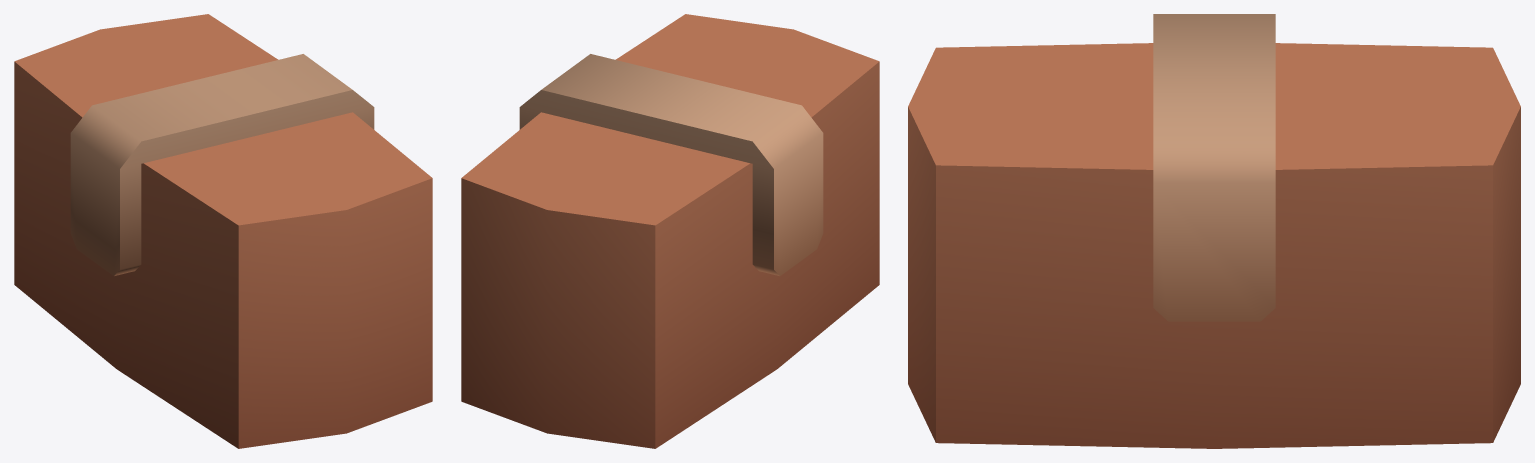
The model's file is box-wide.glb.
3 views of the same model, side by side, from view 1: azimuth 30°, elevation 25°; view 2: azimuth 150°, elevation 25°; view 3: azimuth 270°, elevation 25° (orthographic). The views are drawn at different scales.
Visible parts, largest first — view 1: box-wide; view 2: box-wide; view 3: box-wide.
Boxes of the visible parts, x1,y1,x2,y2 form: box-wide: (14,14,432,448); box-wide: (461,14,879,448); box-wide: (908,14,1520,448).
Bounding box in the file's own units: 0.595 × 0.55 × 1.
